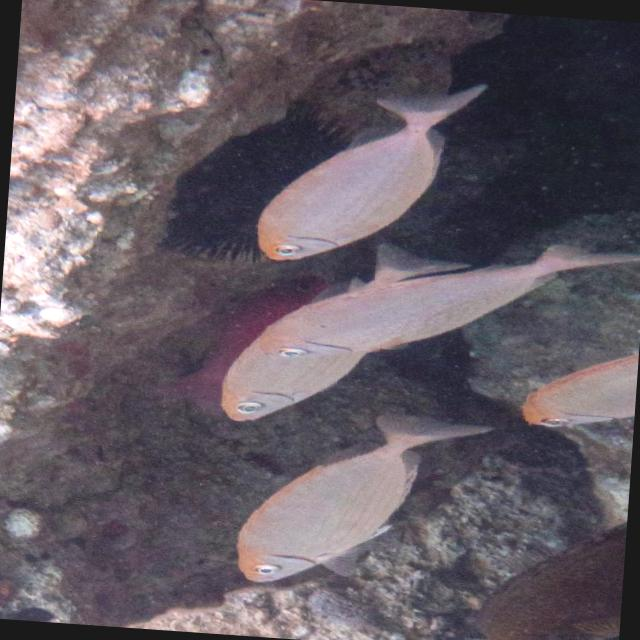Sokar Baligi: (208, 396, 511, 606), (248, 63, 496, 279)
